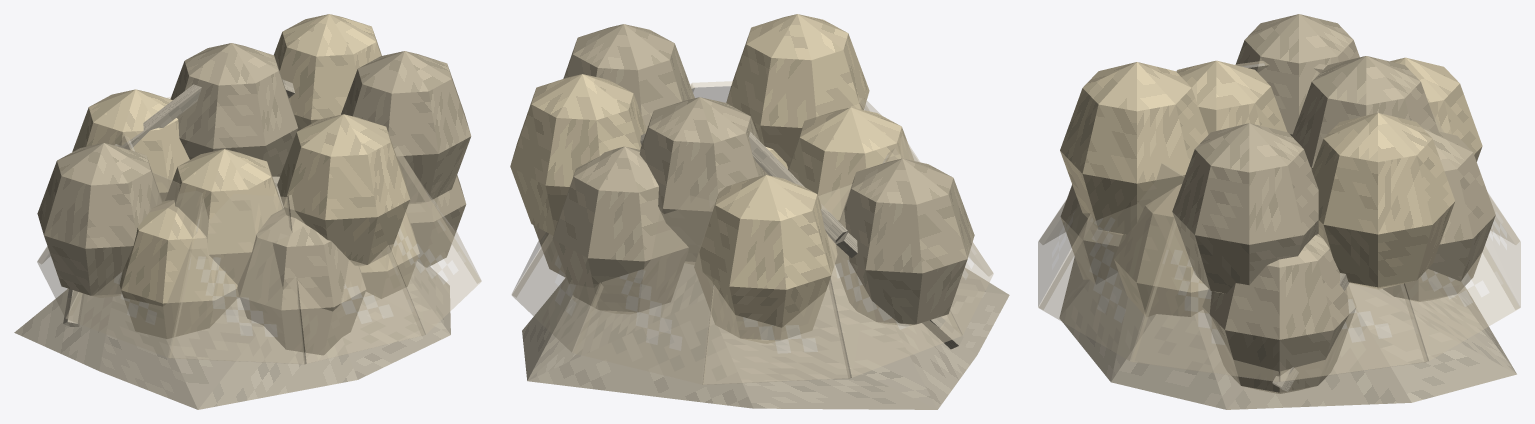
Rendered from f_egg_sackws.glb.
The picture shows the model from 3 angles, left to right: view 1: azimuth 30°, elevation 25°; view 2: azimuth 150°, elevation 25°; view 3: azimuth 270°, elevation 25°; orthographic projection. The views are drawn at different scales.
Parts seen in each view (by area): view 1: block_round-off-white-egg (×11), block_draped-translucent-silk-membrane (×6), block_silken-egg-nest, block_bundling-silk-strand-2, block_bundling-silk-strand-1; view 2: block_round-off-white-egg (×9), block_draped-translucent-silk-membrane (×8), block_silken-egg-nest, block_bundling-silk-strand-2, block_bundling-silk-strand-1; view 3: block_round-off-white-egg (×11), block_draped-translucent-silk-membrane (×7), block_silken-egg-nest, block_bundling-silk-strand-1.
Part boxes in pixels (bbox=[...]): block_round-off-white-egg (×11): bbox=[37, 14, 471, 355]; block_draped-translucent-silk-membrane (×6): bbox=[37, 135, 481, 364]; block_silken-egg-nest: bbox=[14, 176, 450, 409]; block_bundling-silk-strand-2: bbox=[114, 84, 201, 149]; block_bundling-silk-strand-1: bbox=[63, 289, 84, 326]; block_round-off-white-egg (×9): bbox=[510, 14, 974, 343]; block_draped-translucent-silk-membrane (×8): bbox=[511, 81, 993, 384]; block_silken-egg-nest: bbox=[522, 263, 1009, 409]; block_bundling-silk-strand-2: bbox=[749, 132, 847, 243]; block_bundling-silk-strand-1: bbox=[836, 232, 963, 349]; block_round-off-white-egg (×11): bbox=[1060, 14, 1495, 393]; block_draped-translucent-silk-membrane (×7): bbox=[1038, 110, 1520, 381]; block_silken-egg-nest: bbox=[1059, 257, 1516, 409]; block_bundling-silk-strand-1: bbox=[1272, 273, 1349, 391].
Bounding box in the file's own units: 0.7609 × 0.4198 × 0.6869.
Materials: 2 (2 with a texture image).
